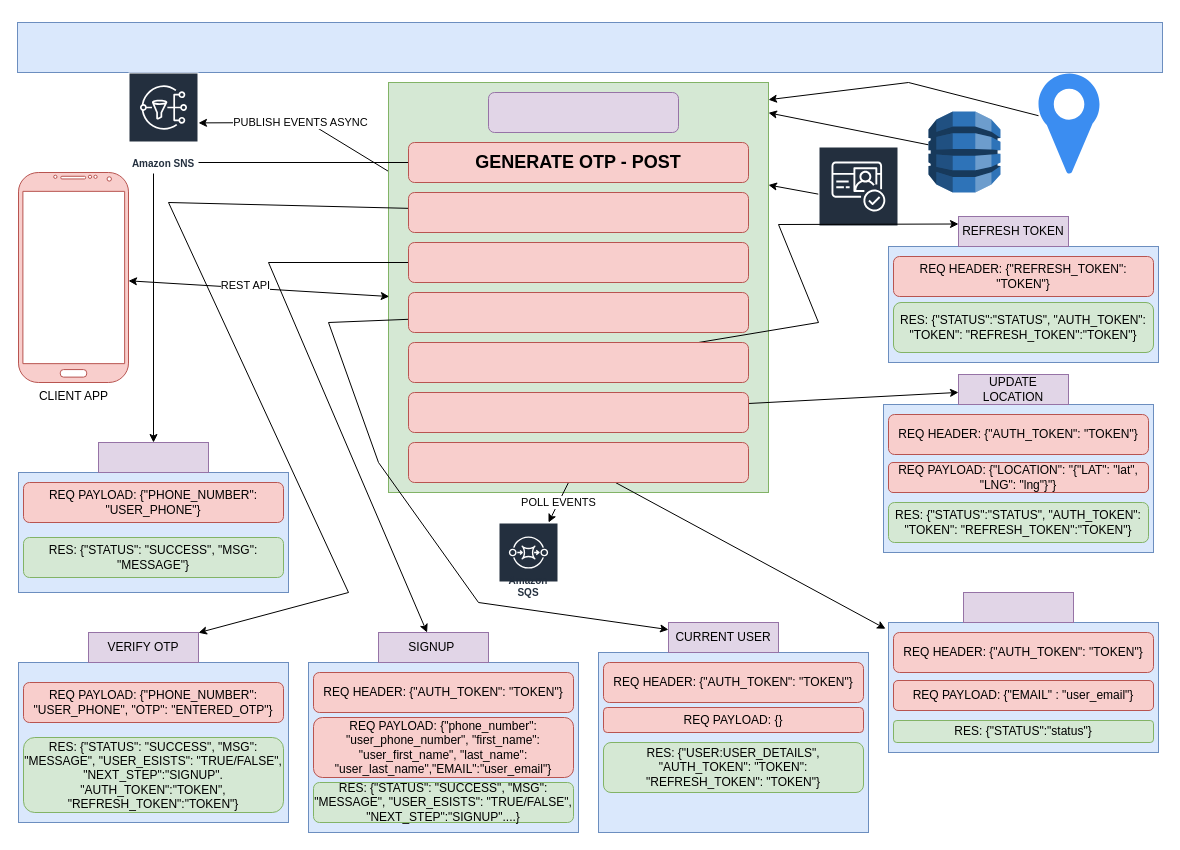
The diagram is 1180 pixels wide and 850 high, and some of its shapes have lost their labels. Here are the shapes that lost their labels. From the top down, the box of each, then its label:
(16, 22, 1162, 72): AUTH SERVICE DESIGN
(488, 92, 678, 132): APIS
(1038, 73, 1099, 173): MAPS SDK
(928, 110, 1000, 192): MONGO DB
(408, 192, 748, 232): VERIFY OTP - POST
(818, 146, 898, 256): Amazon Cognito
(408, 242, 748, 282): SIGNUP - POST
(408, 292, 748, 332): CURRENT USER - GET
(408, 342, 748, 382): REFRESH TOKEN - GET
(408, 392, 748, 432): UPDATE CURRENT LOCATION - POST
(98, 442, 208, 472): GENERATE OTP
(408, 442, 748, 482): UPDATE PROFILE - POST
(962, 592, 1074, 622): UPDATE PROFILE
